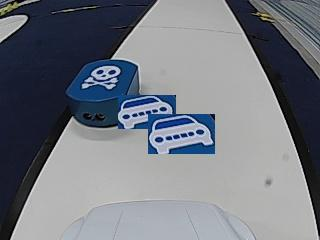danger: (82, 65, 118, 89)
